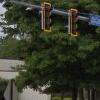Traffic light: (34, 0, 82, 45)
